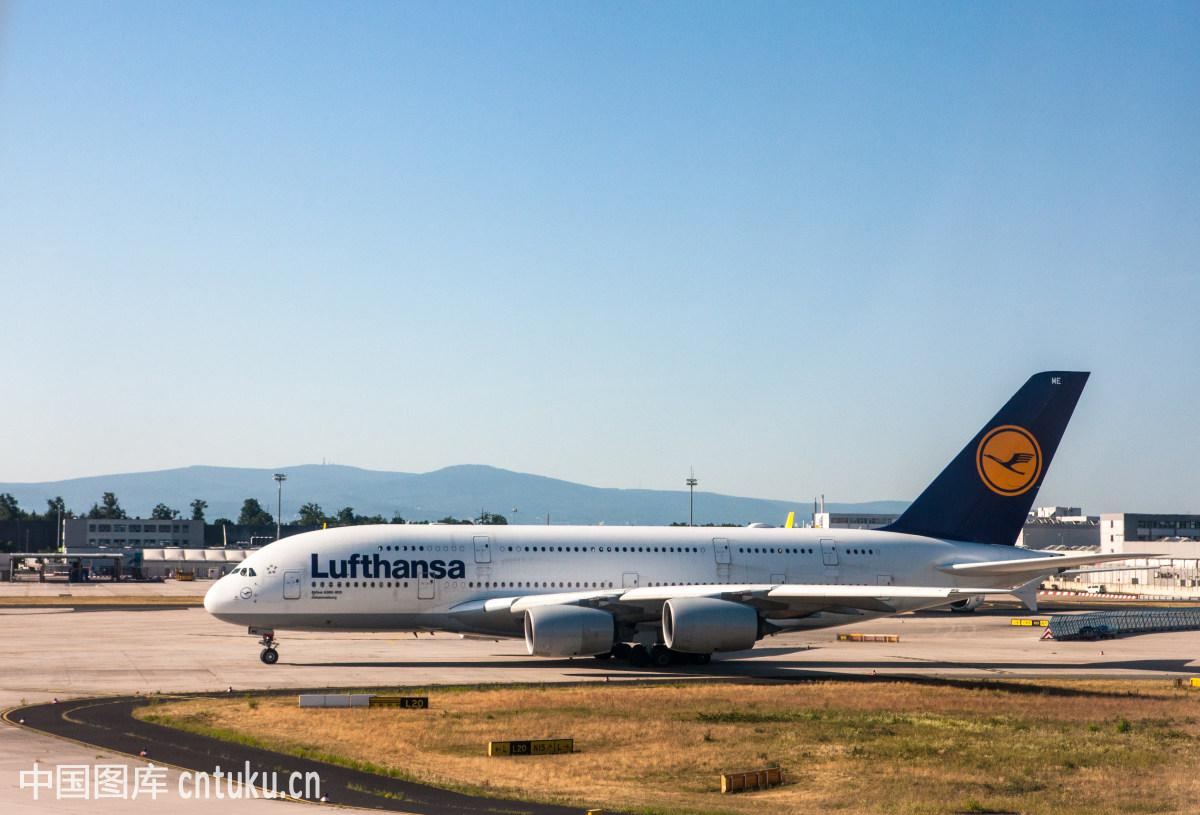airplane: (187, 364, 1094, 665)
